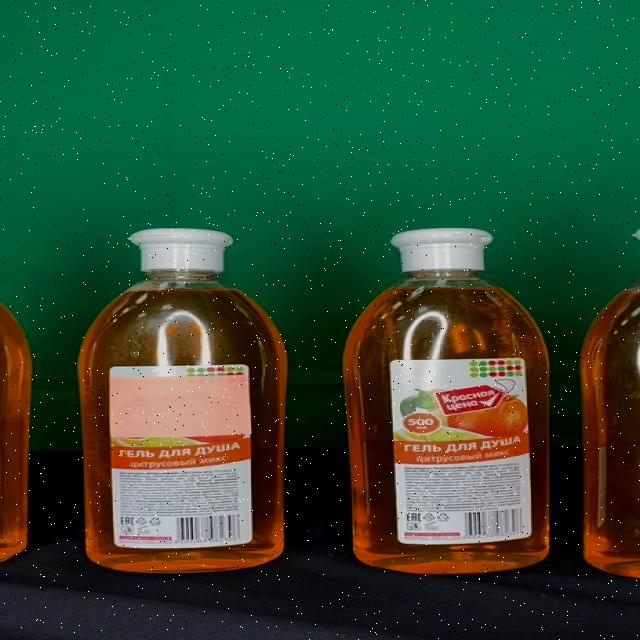Bottle: (78, 228, 289, 573), (342, 227, 550, 574)
Cap: (128, 228, 233, 272), (388, 228, 492, 270)
